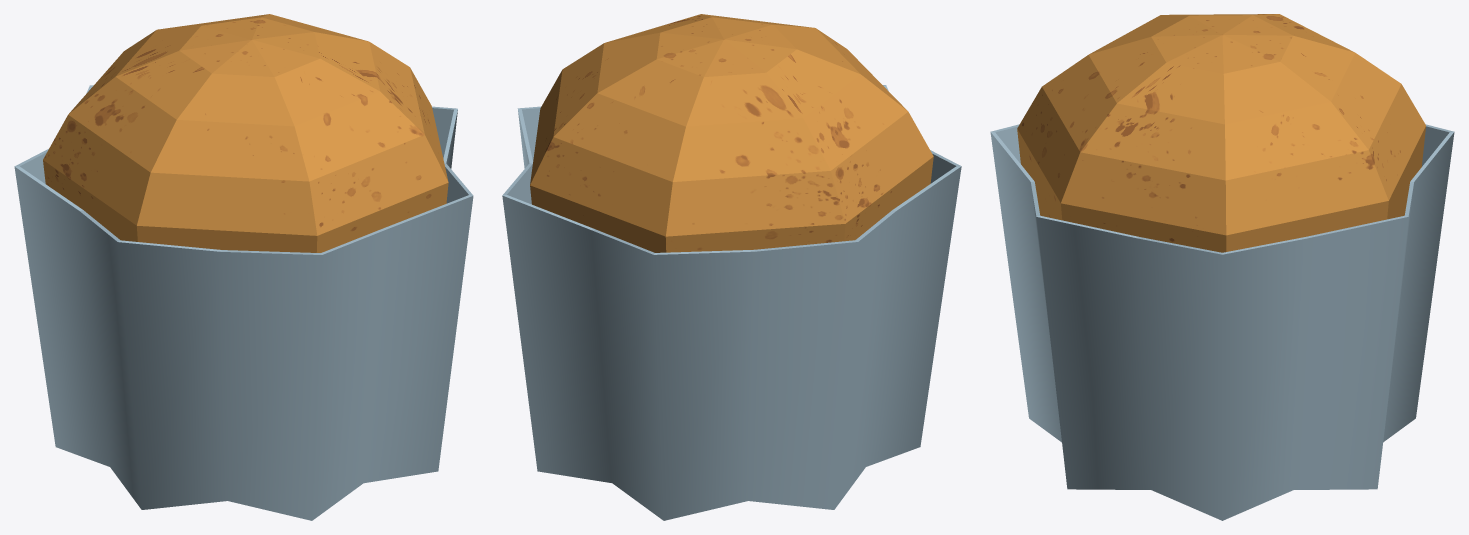
Rendered from Cupcake2.fbx.
The picture shows the model from 3 angles, left to right: view 1: azimuth 30°, elevation 25°; view 2: azimuth 150°, elevation 25°; view 3: azimuth 270°, elevation 25°; orthographic projection.
Parts seen in each view (by area): view 1: pSphere10; view 2: pSphere10; view 3: pSphere10.
Part boxes in pixels (x1,y1,x2,y2): pSphere10: [14, 14, 473, 520]; pSphere10: [502, 14, 961, 520]; pSphere10: [990, 14, 1454, 520].
Bounding box in the file's own units: 4.98 × 4.87 × 5.11.
